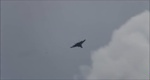maybay_muctieu: (71, 40, 88, 50)
